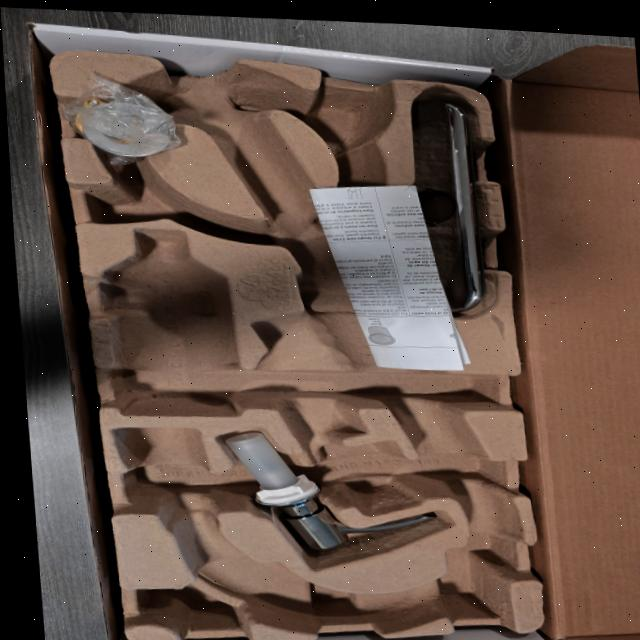1m: (111, 55, 520, 633)
2: (223, 432, 434, 550)
3m: (99, 224, 234, 416)
4o: (403, 100, 482, 311)
5m: (311, 95, 384, 145)
6: (57, 70, 184, 162)
7m: (82, 168, 228, 232)
8: (303, 184, 468, 370)
